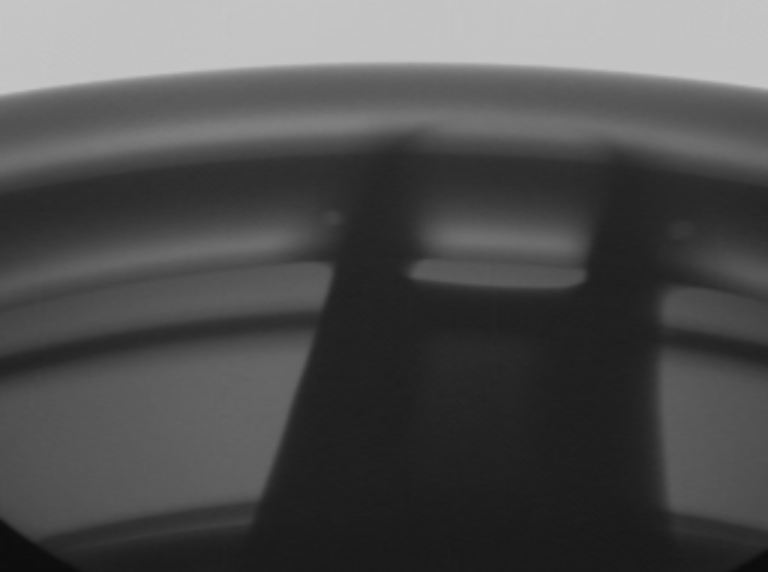defect: (306, 201, 354, 235)
